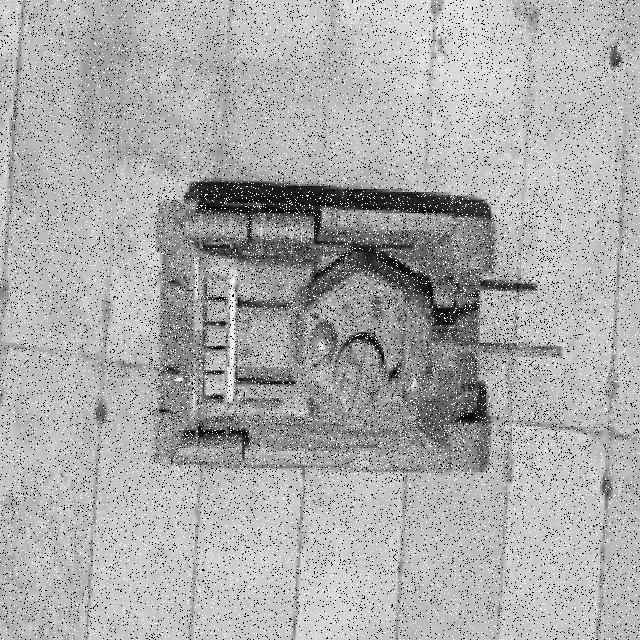MIL_MBT: (149, 194, 564, 476)
